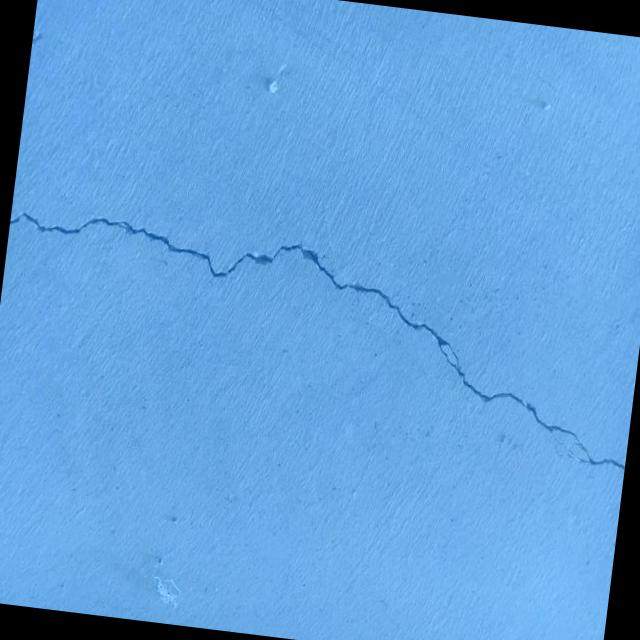crack: (0, 205, 640, 470)
